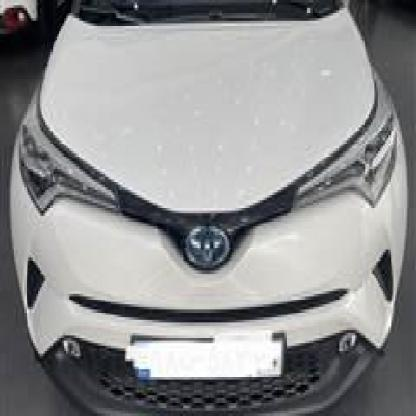Car: (0, 0, 416, 403)
